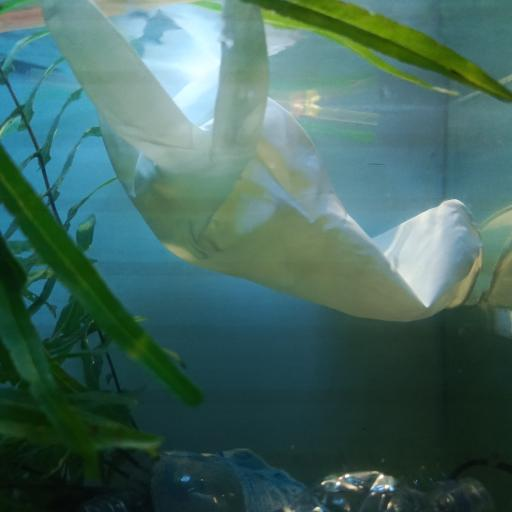glove: (33, 0, 486, 323)
plastic_bottle: (102, 443, 489, 512)
plastic_straw: (0, 3, 168, 32), (274, 99, 382, 128)
